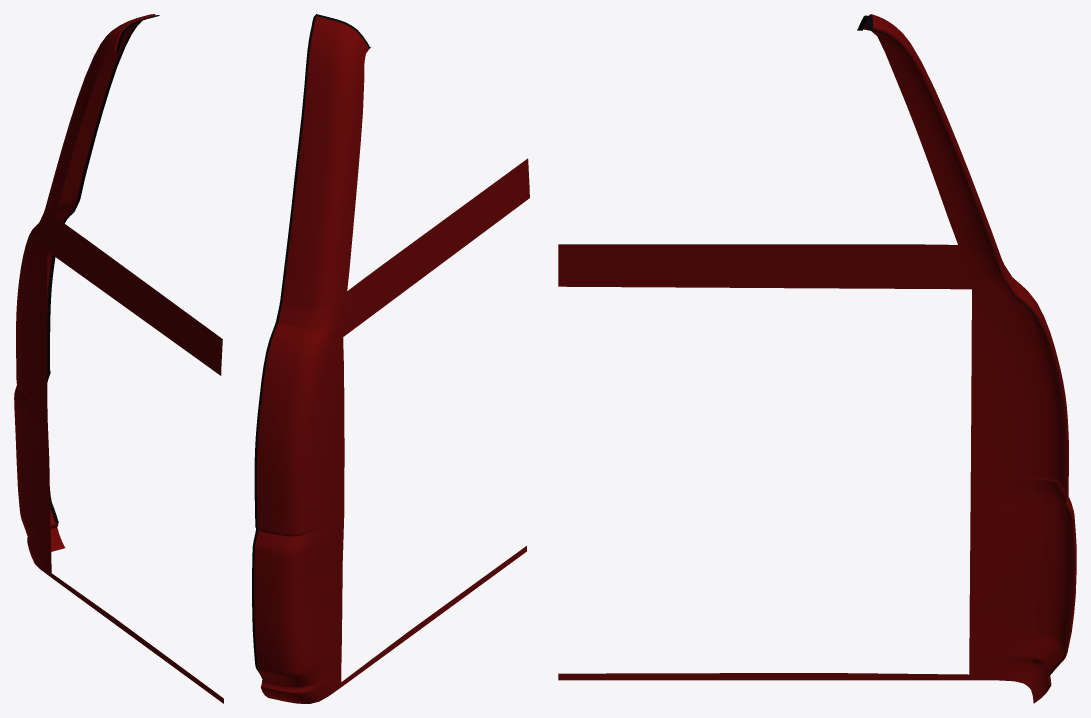
3 views of the same model, side by side, from view 1: azimuth 30°, elevation 25°; view 2: azimuth 150°, elevation 25°; view 3: azimuth 270°, elevation 25° (orthographic). The views are drawn at different scales.
Visible parts, largest first — view 1: U805_4A_181X_L_U805_4A_181X_L_1_DaS, U805_4A_181X_L_2_D_U805_4A_181X_L, U805_4A_181X_L_U805_4A_181X_L_1_DaS_E; view 2: U805_4A_181X_L_U805_4A_181X_L_1_DaS, U805_4A_181X_L_2_D_U805_4A_181X_L; view 3: U805_4A_181X_L_U805_4A_181X_L_1_DaS, U805_4A_181X_L_U805_4A_181X_L_1_DaS_E, U805_4A_181X_L_2_D_U805_4A_181X_L.
Part boxes in pixels (box(x1,y1,x2,y2)): U805_4A_181X_L_U805_4A_181X_L_1_DaS: box(14, 14, 223, 703); U805_4A_181X_L_2_D_U805_4A_181X_L: box(47, 15, 159, 523); U805_4A_181X_L_U805_4A_181X_L_1_DaS_E: box(18, 14, 155, 558); U805_4A_181X_L_U805_4A_181X_L_1_DaS: box(254, 16, 529, 703); U805_4A_181X_L_2_D_U805_4A_181X_L: box(252, 14, 371, 679); U805_4A_181X_L_U805_4A_181X_L_1_DaS: box(558, 14, 1074, 703); U805_4A_181X_L_U805_4A_181X_L_1_DaS_E: box(869, 14, 1076, 685); U805_4A_181X_L_2_D_U805_4A_181X_L: box(857, 15, 1074, 677).
Bounding box in the file's own units: 16.48 × 130 × 88.6.
